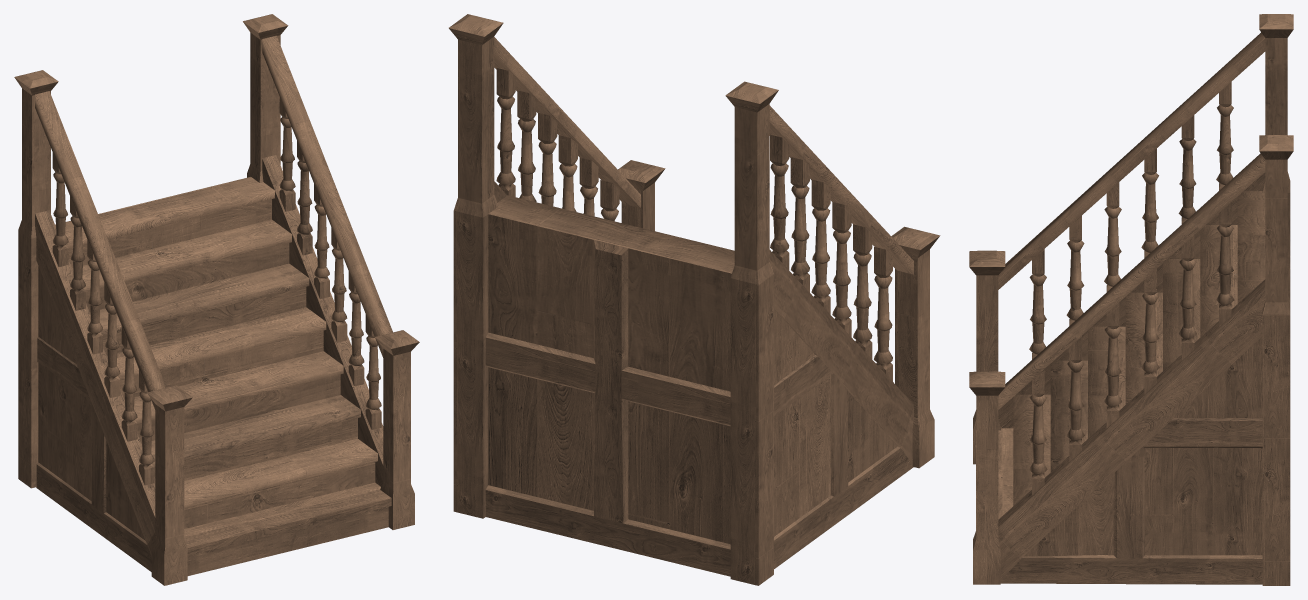
Rendered from StairsInt2x2-1A.fbx.
The picture shows the model from 3 angles, left to right: view 1: azimuth 30°, elevation 25°; view 2: azimuth 150°, elevation 25°; view 3: azimuth 270°, elevation 25°; orthographic projection. The views are drawn at different scales.
Parts seen in each view (by area): view 1: StairsInt2x2-1A, StairsInt2x2-1A-LeftRailing, StairsInt2x2-1A-RightRailing; view 2: StairsInt2x2-1A, StairsInt2x2-1A-LeftRailing, StairsInt2x2-1A-RightRailing; view 3: StairsInt2x2-1A-RightRailing, StairsInt2x2-1A, StairsInt2x2-1A-LeftRailing.
Boxes of the visible parts, x1,y1,x2,y2 form: StairsInt2x2-1A: (38, 177, 391, 575); StairsInt2x2-1A-LeftRailing: (14, 70, 192, 585); StairsInt2x2-1A-RightRailing: (243, 14, 419, 529); StairsInt2x2-1A: (485, 195, 897, 576); StairsInt2x2-1A-LeftRailing: (725, 81, 940, 585); StairsInt2x2-1A-RightRailing: (449, 14, 665, 518); StairsInt2x2-1A-RightRailing: (969, 135, 1293, 585); StairsInt2x2-1A: (976, 191, 1265, 556); StairsInt2x2-1A-LeftRailing: (969, 14, 1293, 464).
Size of the model in its own units: 217 by 325 by 217.
